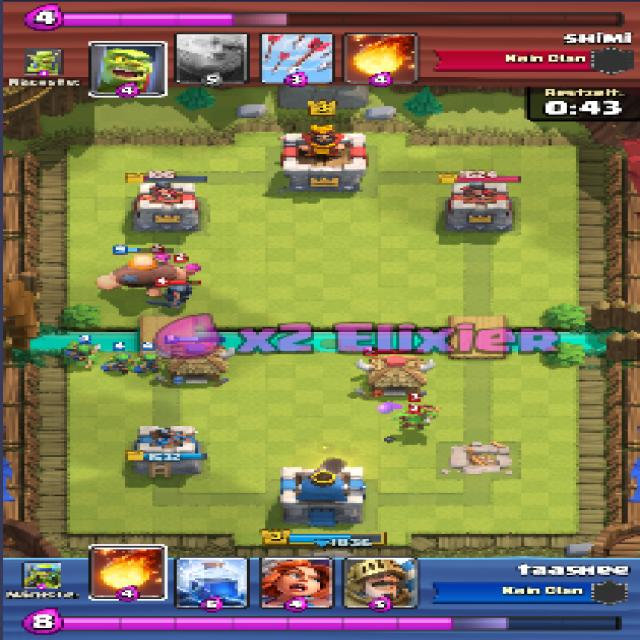Enemy-Archer: (176, 261, 206, 277), (147, 252, 172, 266)
Enemy-GoblinHut: (351, 355, 436, 399)
Enemy-MiniPEKKA: (146, 282, 194, 309)
Enemy-SpearGoblin: (394, 405, 438, 431)
Player-Giant: (95, 253, 188, 297)
Player-GoblinHut: (145, 343, 240, 387)
Player-SpearGoblin: (65, 342, 103, 368), (128, 352, 162, 374), (100, 352, 133, 374)
